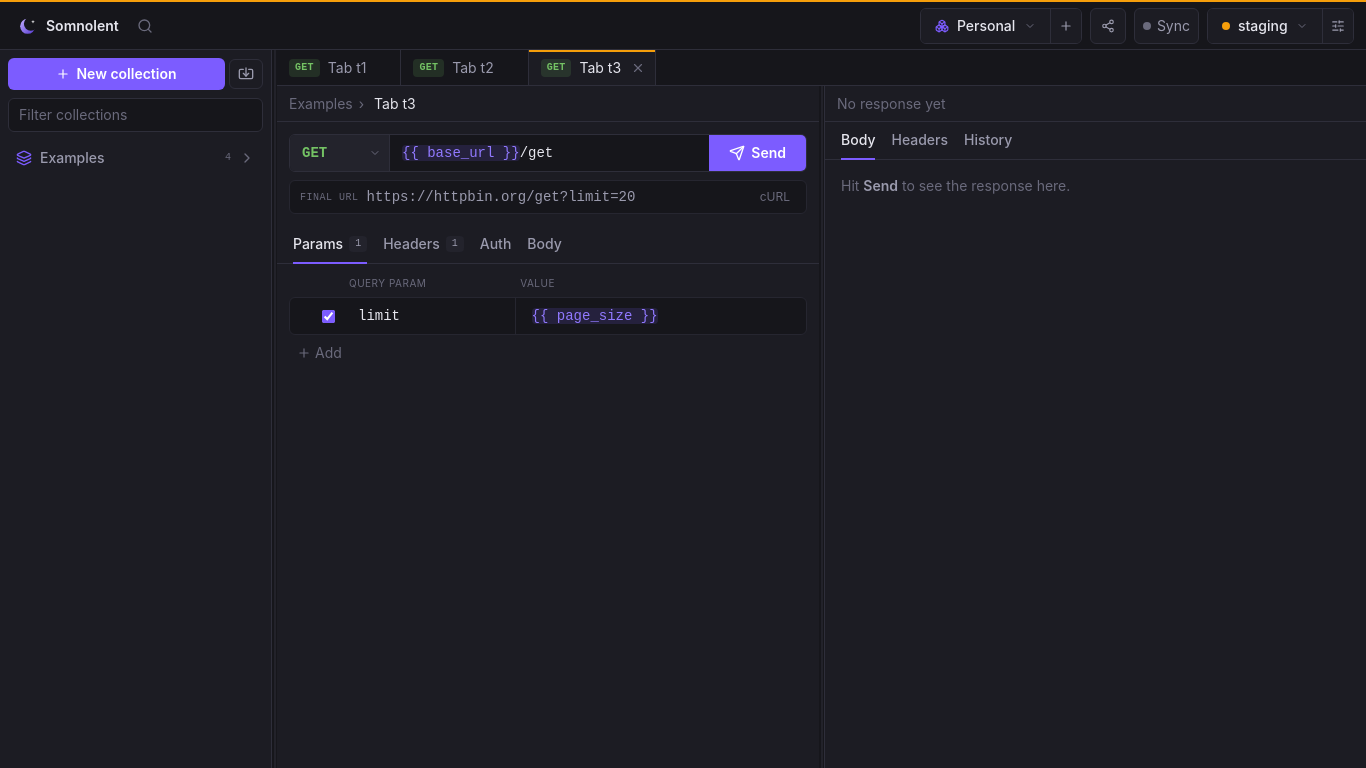
tab strip › right-clicking a tab opens the menu with the three actions
Step 1. Right-click the tab "GET Tab t1" → (339, 68), box [277, 50, 401, 86]
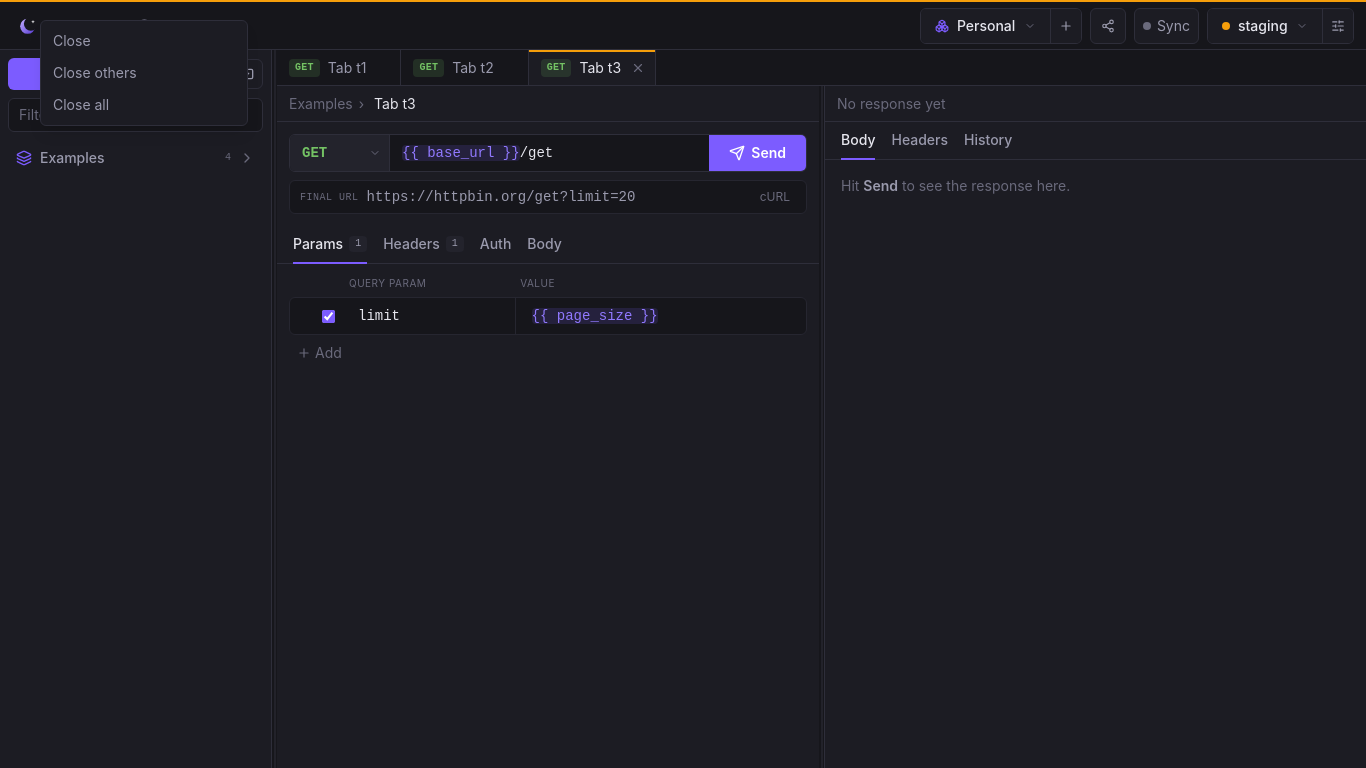
Expected: the menu items read "Close", "Close others", "Close all", in this order, [41, 25, 247, 57]; [41, 57, 247, 89]; [41, 89, 247, 121]
